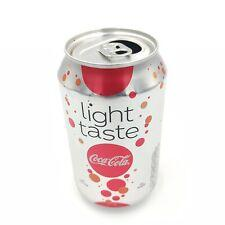metal: (58, 29, 167, 208)
